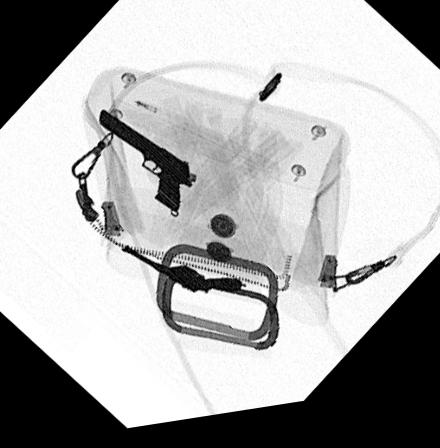Gun: (96, 112, 198, 221), (119, 249, 243, 300)
